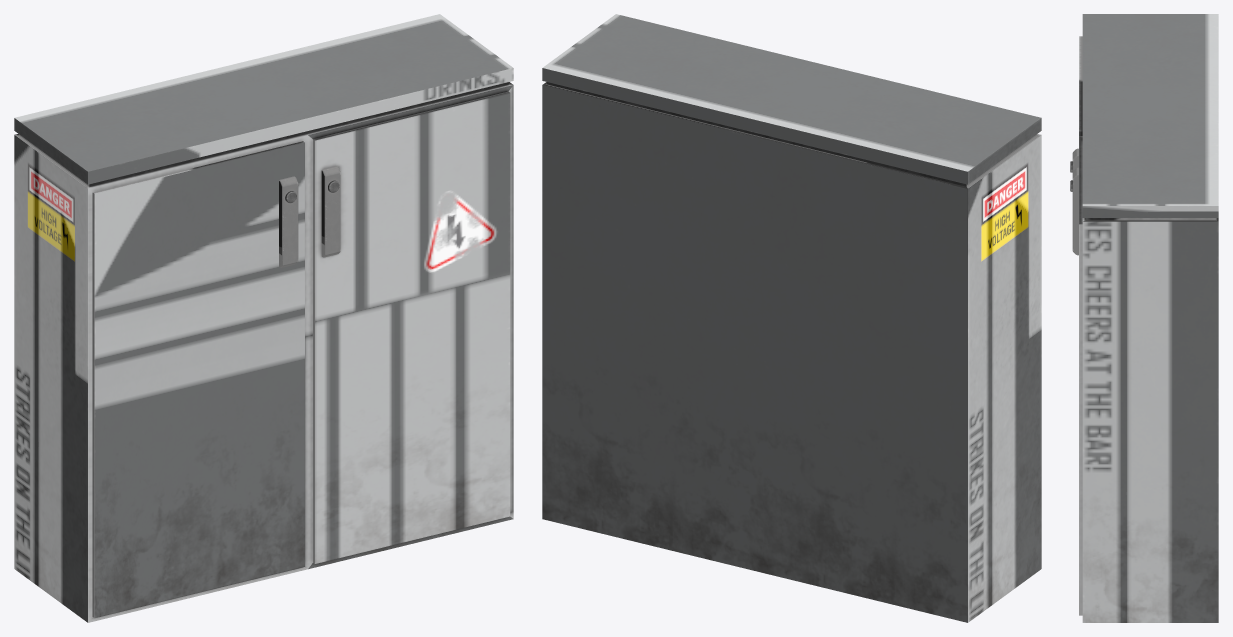
The model's file is SM_CurrentBox_B.fbx.
The picture shows the model from 3 angles, left to right: view 1: azimuth 30°, elevation 25°; view 2: azimuth 150°, elevation 25°; view 3: azimuth 270°, elevation 25°; orthographic projection. The views are drawn at different scales.
Parts seen in each view (by area): view 1: SM_CurrentBox_B_LOD0; view 2: SM_CurrentBox_B_LOD0; view 3: SM_CurrentBox_B_LOD0.
Boxes of the visible parts, x1=… form: SM_CurrentBox_B_LOD0: x1=14, y1=14, x2=513, y2=622; SM_CurrentBox_B_LOD0: x1=542, y1=14, x2=1041, y2=622; SM_CurrentBox_B_LOD0: x1=1070, y1=14, x2=1218, y2=622.
Size of the model in its own units: 100 by 32.72 by 101.
Materials: 1 (1 with a texture image).
